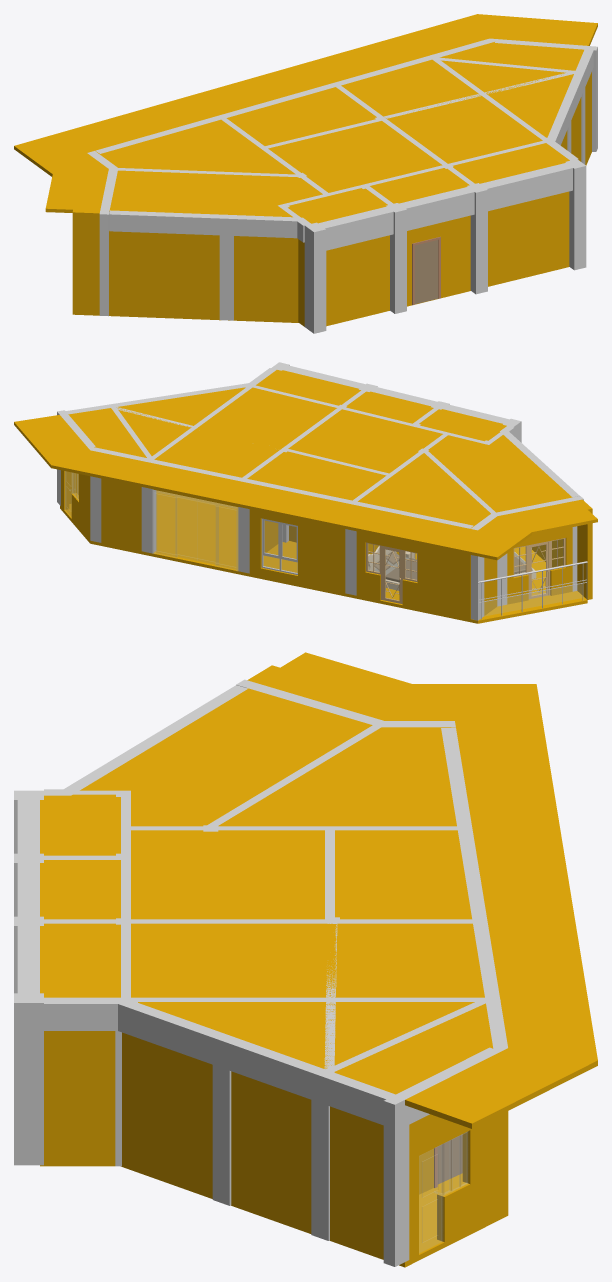
The picture shows the model from 3 angles, top to bottom: view 1: azimuth 30°, elevation 25°; view 2: azimuth 150°, elevation 25°; view 3: azimuth 270°, elevation 25°; orthographic projection. The views are drawn at different scales.
Parts seen in each view (by area): view 1: product-89fb39e2-789d-4ac5-93a1-f93357b2fad6-body, product-80484e0e-abc1-420a-9cb2-34c03fd46184-body, product-89fb39e2-789d-4ac5-93a1-f93357b3c815-body, product-80484e0e-abc1-420a-9cb2-34c03fd366b9-body, product-89fb39e2-789d-4ac5-93a1-f93357b4c738-body, product-89fb39e2-789d-4ac5-93a1-f93357b3cb51-body, product-80484e0e-abc1-420a-9cb2-34c03fd502c4-body, product-89fb39e2-789d-4ac5-93a1-f93357b4a1d4-body, product-80484e0e-abc1-420a-9cb2-34c03fd35f86-body, product-80484e0e-abc1-420a-9cb2-34c03fd3140e-body, product-89fb39e2-789d-4ac5-93a1-f93357b4a0ee-body, product-89fb39e2-789d-4ac5-93a1-f93357b4a00b-body (+25 smaller); view 2: product-89fb39e2-789d-4ac5-93a1-f93357b2fad6-body, product-89fb39e2-789d-4ac5-93a1-f93357b3778c-body, product-89fb39e2-789d-4ac5-93a1-f93357b3af14-body, product-89fb39e2-789d-4ac5-93a1-f93357b4f80f-body, product-89fb39e2-789d-4ac5-93a1-f93357b3c5d7-body, product-89fb39e2-789d-4ac5-93a1-f93357b3cafc-body, product-80484e0e-abc1-420a-9cb2-34c03fd50224-body, product-89fb39e2-789d-4ac5-93a1-f93357b35bea-body, product-89fb39e2-789d-4ac5-93a1-f93357b4f76b-body, product-89fb39e2-789d-4ac5-93a1-f93357b35b91-body, product-89fb39e2-789d-4ac5-93a1-f93357b3af8a-body, product-89fb39e2-789d-4ac5-93a1-f93357b3ccb3-body (+23 smaller); view 3: product-89fb39e2-789d-4ac5-93a1-f93357b2fad6-body, product-89fb39e2-789d-4ac5-93a1-f93357b4c5e4-body, product-89fb39e2-789d-4ac5-93a1-f93357b3f7fb-body, product-89fb39e2-789d-4ac5-93a1-f93357b4c73d-body, product-89fb39e2-789d-4ac5-93a1-f93357b3ccb3-body, product-89fb39e2-789d-4ac5-93a1-f93357b3cf03-body, product-89fb39e2-789d-4ac5-93a1-f93357b4e028-body, product-89fb39e2-789d-4ac5-93a1-f93357b49c9e-body, product-89fb39e2-789d-4ac5-93a1-f93357b3a4ff-body, product-89fb39e2-789d-4ac5-93a1-f93357b3f4e0-body, product-89fb39e2-789d-4ac5-93a1-f93357b48e3f-body, product-89fb39e2-789d-4ac5-93a1-f93357b48f69-body (+23 smaller).
Part boxes in pixels (x1,y1,x2,y2): product-89fb39e2-789d-4ac5-93a1-f93357b2fad6-body: (14, 14, 597, 223); product-80484e0e-abc1-420a-9cb2-34c03fd46184-body: (109, 230, 219, 319); product-89fb39e2-789d-4ac5-93a1-f93357b3c815-body: (488, 191, 569, 286); product-80484e0e-abc1-420a-9cb2-34c03fd366b9-body: (234, 236, 298, 322); product-89fb39e2-789d-4ac5-93a1-f93357b4c738-body: (326, 235, 389, 325); product-89fb39e2-789d-4ac5-93a1-f93357b3cb51-body: (407, 215, 470, 306); product-80484e0e-abc1-420a-9cb2-34c03fd502c4-body: (72, 209, 99, 314); product-89fb39e2-789d-4ac5-93a1-f93357b4a1d4-body: (480, 163, 572, 211); product-80484e0e-abc1-420a-9cb2-34c03fd35f86-body: (304, 222, 326, 333); product-80484e0e-abc1-420a-9cb2-34c03fd3140e-body: (109, 210, 220, 235); product-89fb39e2-789d-4ac5-93a1-f93357b4a0ee-body: (318, 206, 393, 250); product-89fb39e2-789d-4ac5-93a1-f93357b4a00b-body: (399, 187, 474, 230); product-89fb39e2-789d-4ac5-93a1-f93357b2fad6-body: (14, 370, 597, 560); product-89fb39e2-789d-4ac5-93a1-f93357b3778c-body: (60, 490, 587, 623); product-89fb39e2-789d-4ac5-93a1-f93357b3af14-body: (152, 489, 238, 570); product-89fb39e2-789d-4ac5-93a1-f93357b4f80f-body: (356, 531, 470, 619); product-89fb39e2-789d-4ac5-93a1-f93357b3c5d7-body: (249, 509, 345, 593); product-89fb39e2-789d-4ac5-93a1-f93357b3cafc-body: (101, 478, 141, 551); product-80484e0e-abc1-420a-9cb2-34c03fd50224-body: (478, 561, 587, 619); product-89fb39e2-789d-4ac5-93a1-f93357b35bea-body: (366, 542, 417, 604); product-89fb39e2-789d-4ac5-93a1-f93357b4f76b-body: (507, 527, 572, 604); product-89fb39e2-789d-4ac5-93a1-f93357b35b91-body: (513, 538, 565, 599); product-89fb39e2-789d-4ac5-93a1-f93357b3af8a-body: (261, 518, 297, 574); product-89fb39e2-789d-4ac5-93a1-f93357b3ccb3-body: (61, 470, 90, 540); product-89fb39e2-789d-4ac5-93a1-f93357b2fad6-body: (40, 652, 597, 1128); product-89fb39e2-789d-4ac5-93a1-f93357b4c5e4-body: (122, 1032, 212, 1198); product-89fb39e2-789d-4ac5-93a1-f93357b3f7fb-body: (231, 1071, 311, 1233); product-89fb39e2-789d-4ac5-93a1-f93357b4c73d-body: (44, 1031, 115, 1165); product-89fb39e2-789d-4ac5-93a1-f93357b3ccb3-body: (409, 1111, 508, 1259); product-89fb39e2-789d-4ac5-93a1-f93357b3cf03-body: (330, 1106, 383, 1259); product-89fb39e2-789d-4ac5-93a1-f93357b4e028-body: (14, 993, 43, 1165); product-89fb39e2-789d-4ac5-93a1-f93357b49c9e-body: (383, 1093, 409, 1266); product-89fb39e2-789d-4ac5-93a1-f93357b3a4ff-body: (419, 1131, 468, 1252); product-89fb39e2-789d-4ac5-93a1-f93357b3f4e0-body: (101, 997, 221, 1064); product-89fb39e2-789d-4ac5-93a1-f93357b48e3f-body: (212, 1033, 238, 1205); product-89fb39e2-789d-4ac5-93a1-f93357b48f69-body: (311, 1068, 337, 1240).
Size of the model in its own units: 22.41 by 3.72 by 11.74.
